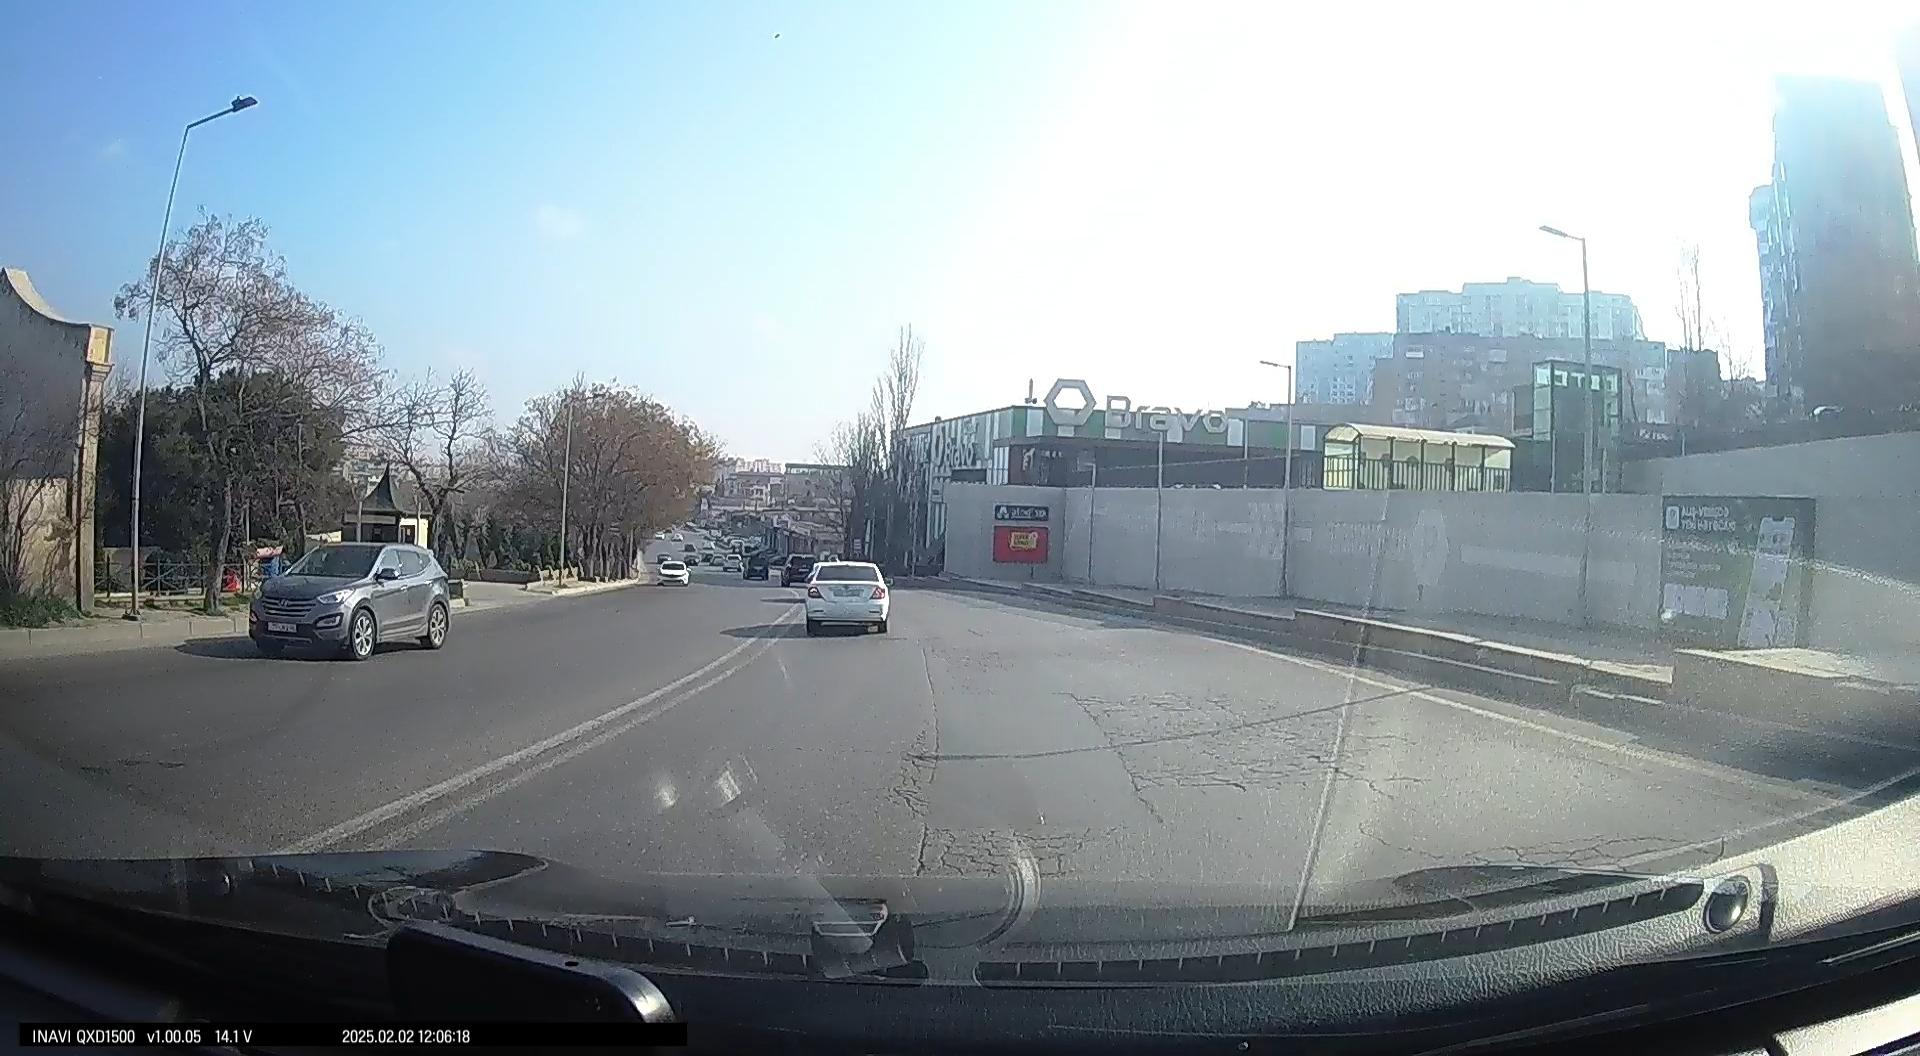banner: (1659, 494, 1815, 655)
